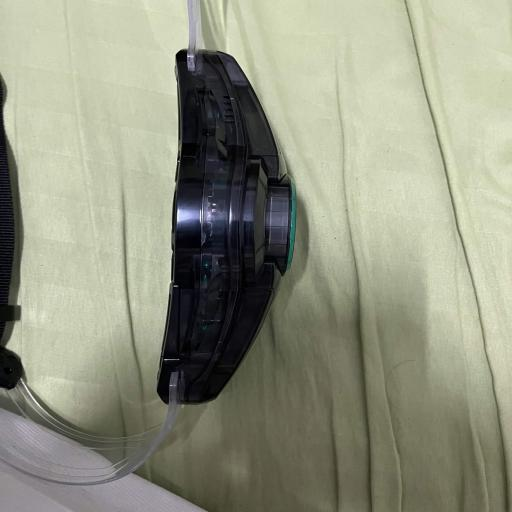zeztzdriver: (157, 0, 296, 409), (0, 349, 179, 485)
